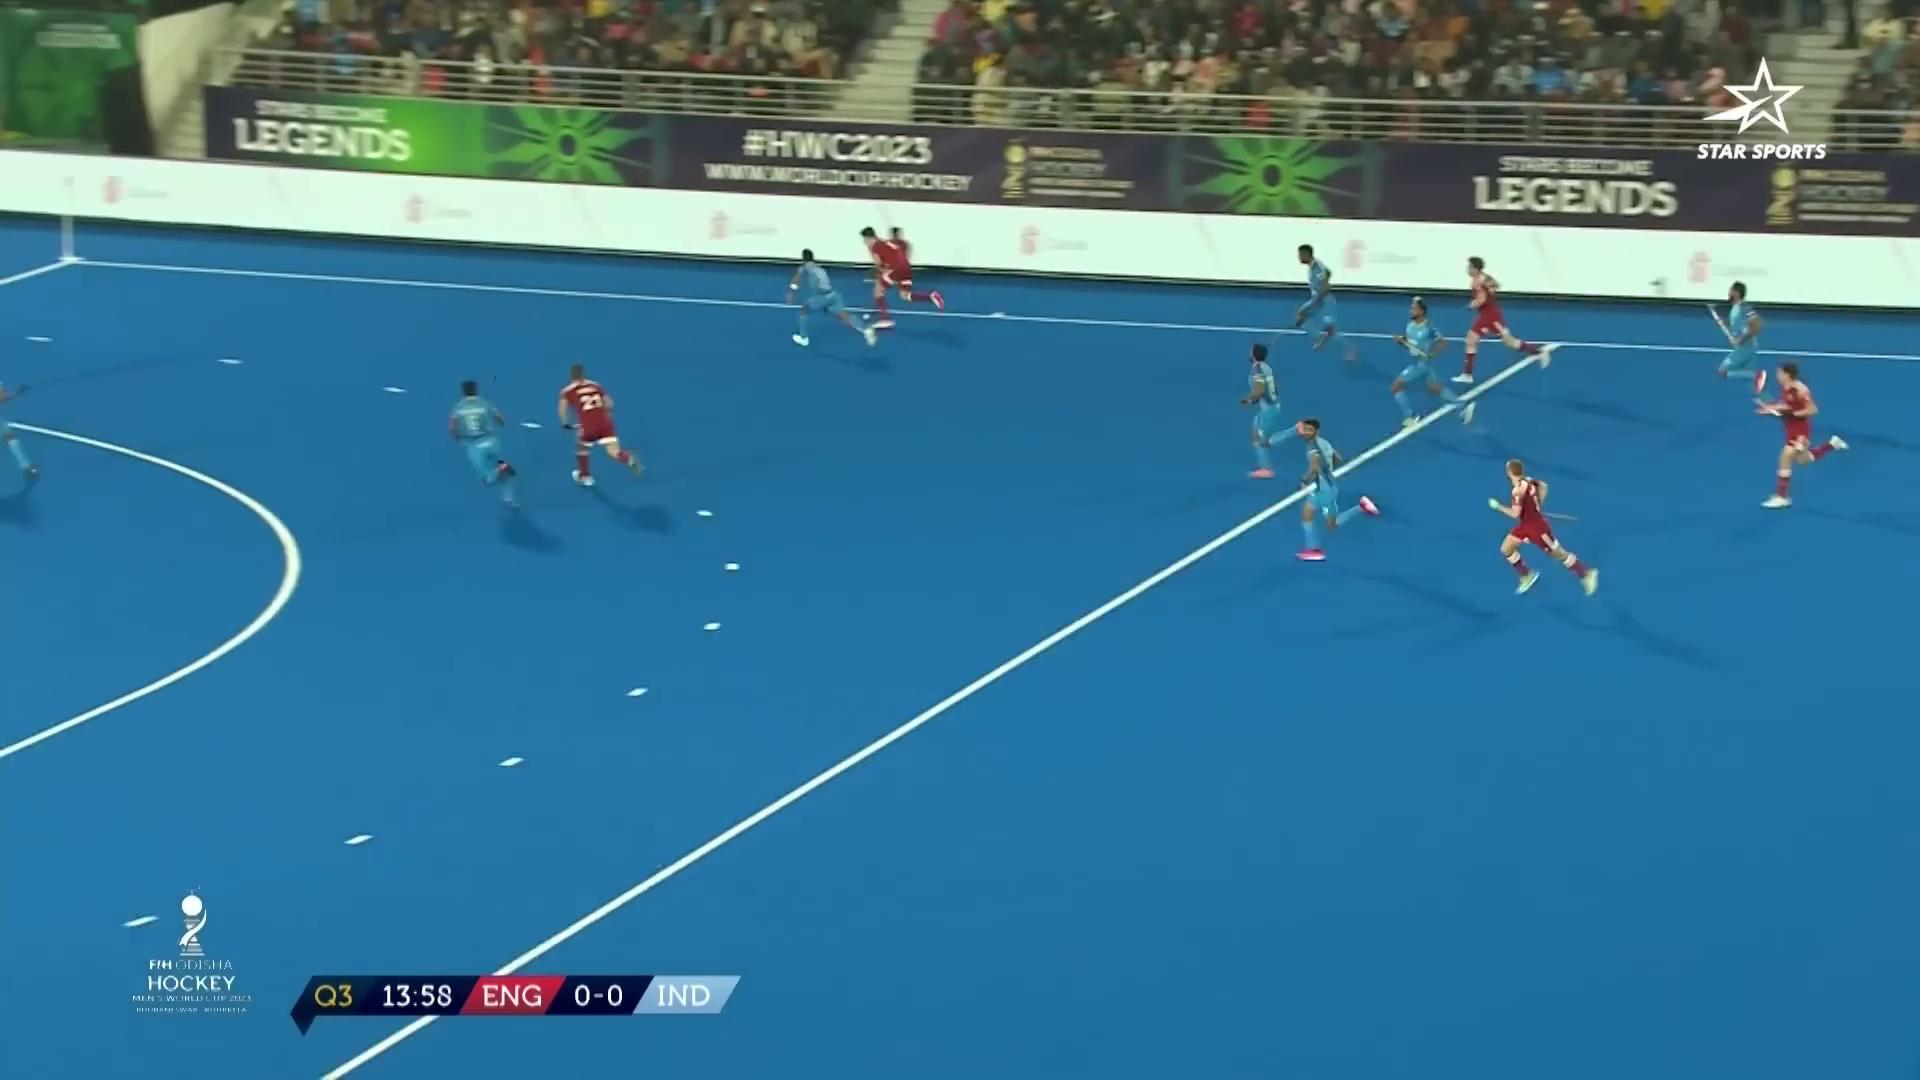ball: (861, 314, 872, 322)
